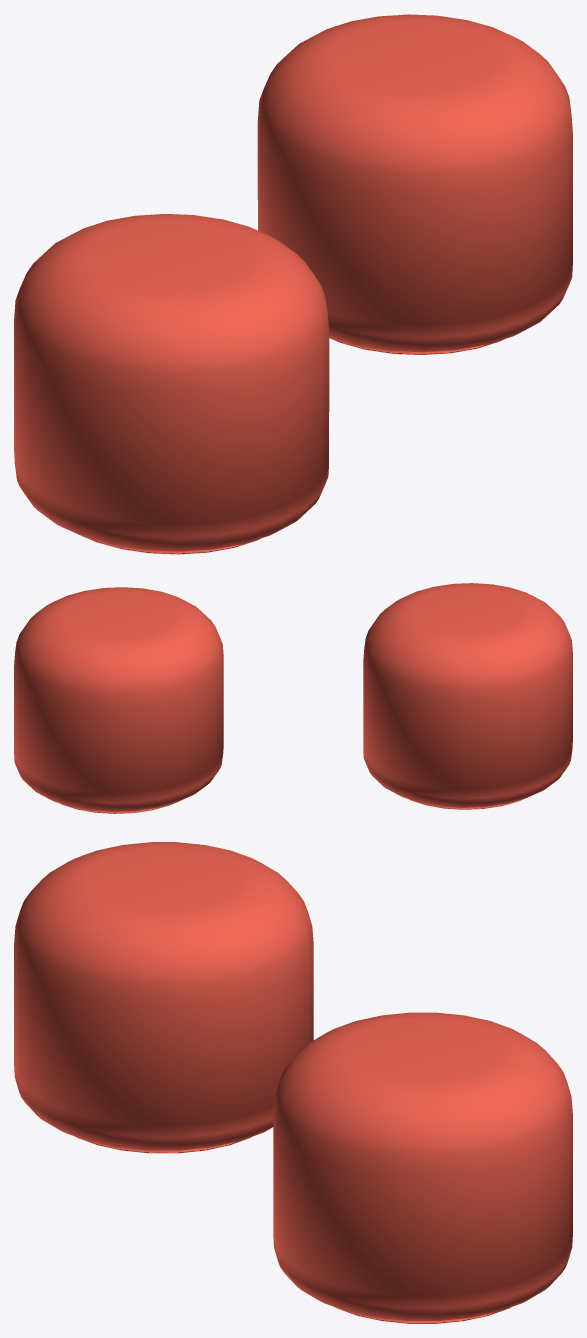
The model's file is home4.gltf.glb.
The picture shows the model from 3 angles, top to bottom: view 1: azimuth 30°, elevation 25°; view 2: azimuth 150°, elevation 25°; view 3: azimuth 270°, elevation 25°; orthographic projection. The views are drawn at different scales.
Parts seen in each view (by area): view 1: Main.001, Main; view 2: Main.001, Main; view 3: Main, Main.001.
Part boxes in pixels (bbox=[...]): Main.001: bbox=[14, 214, 329, 554]; Main: bbox=[257, 14, 572, 354]; Main.001: bbox=[363, 583, 572, 809]; Main: bbox=[14, 587, 223, 813]; Main: bbox=[273, 1012, 572, 1323]; Main.001: bbox=[14, 842, 313, 1153].
Size of what is drawn, in the model's own units: 6.28 by 2.28 by 5.04.
